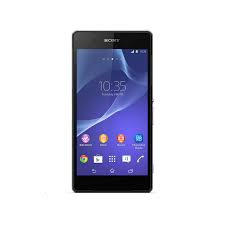sony: (69, 27, 153, 195)
